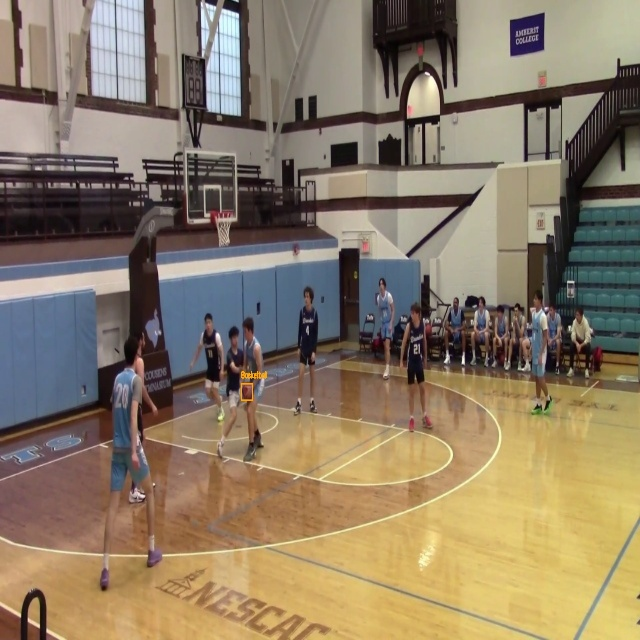Basketball: (241, 384, 253, 400)
